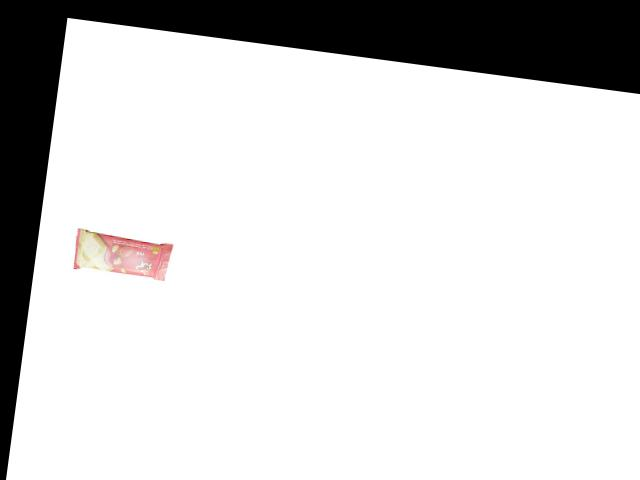chocolate: (71, 221, 181, 285)
